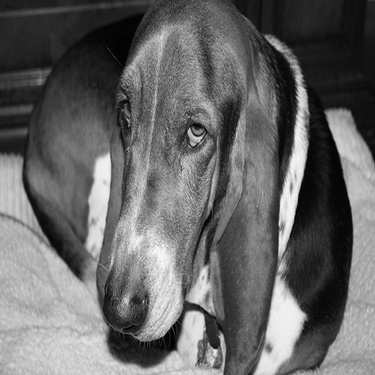dog: (16, 5, 353, 373)
